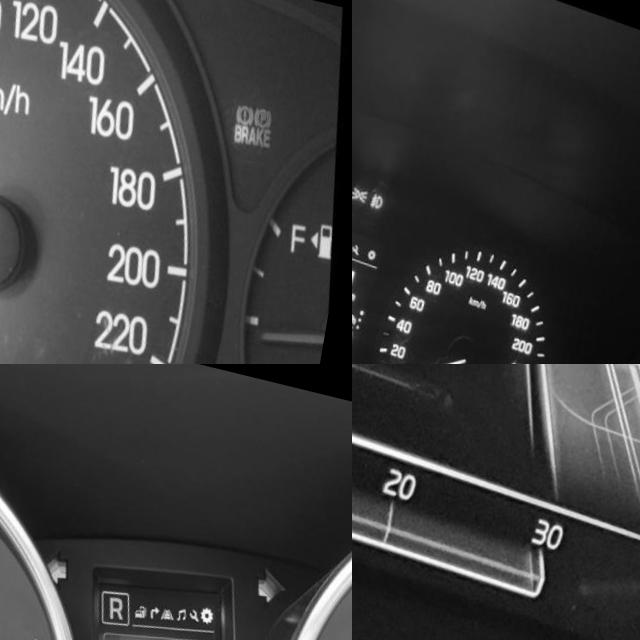FrontFogLight: (377, 173, 392, 193)
SideLamp: (358, 168, 378, 187)
